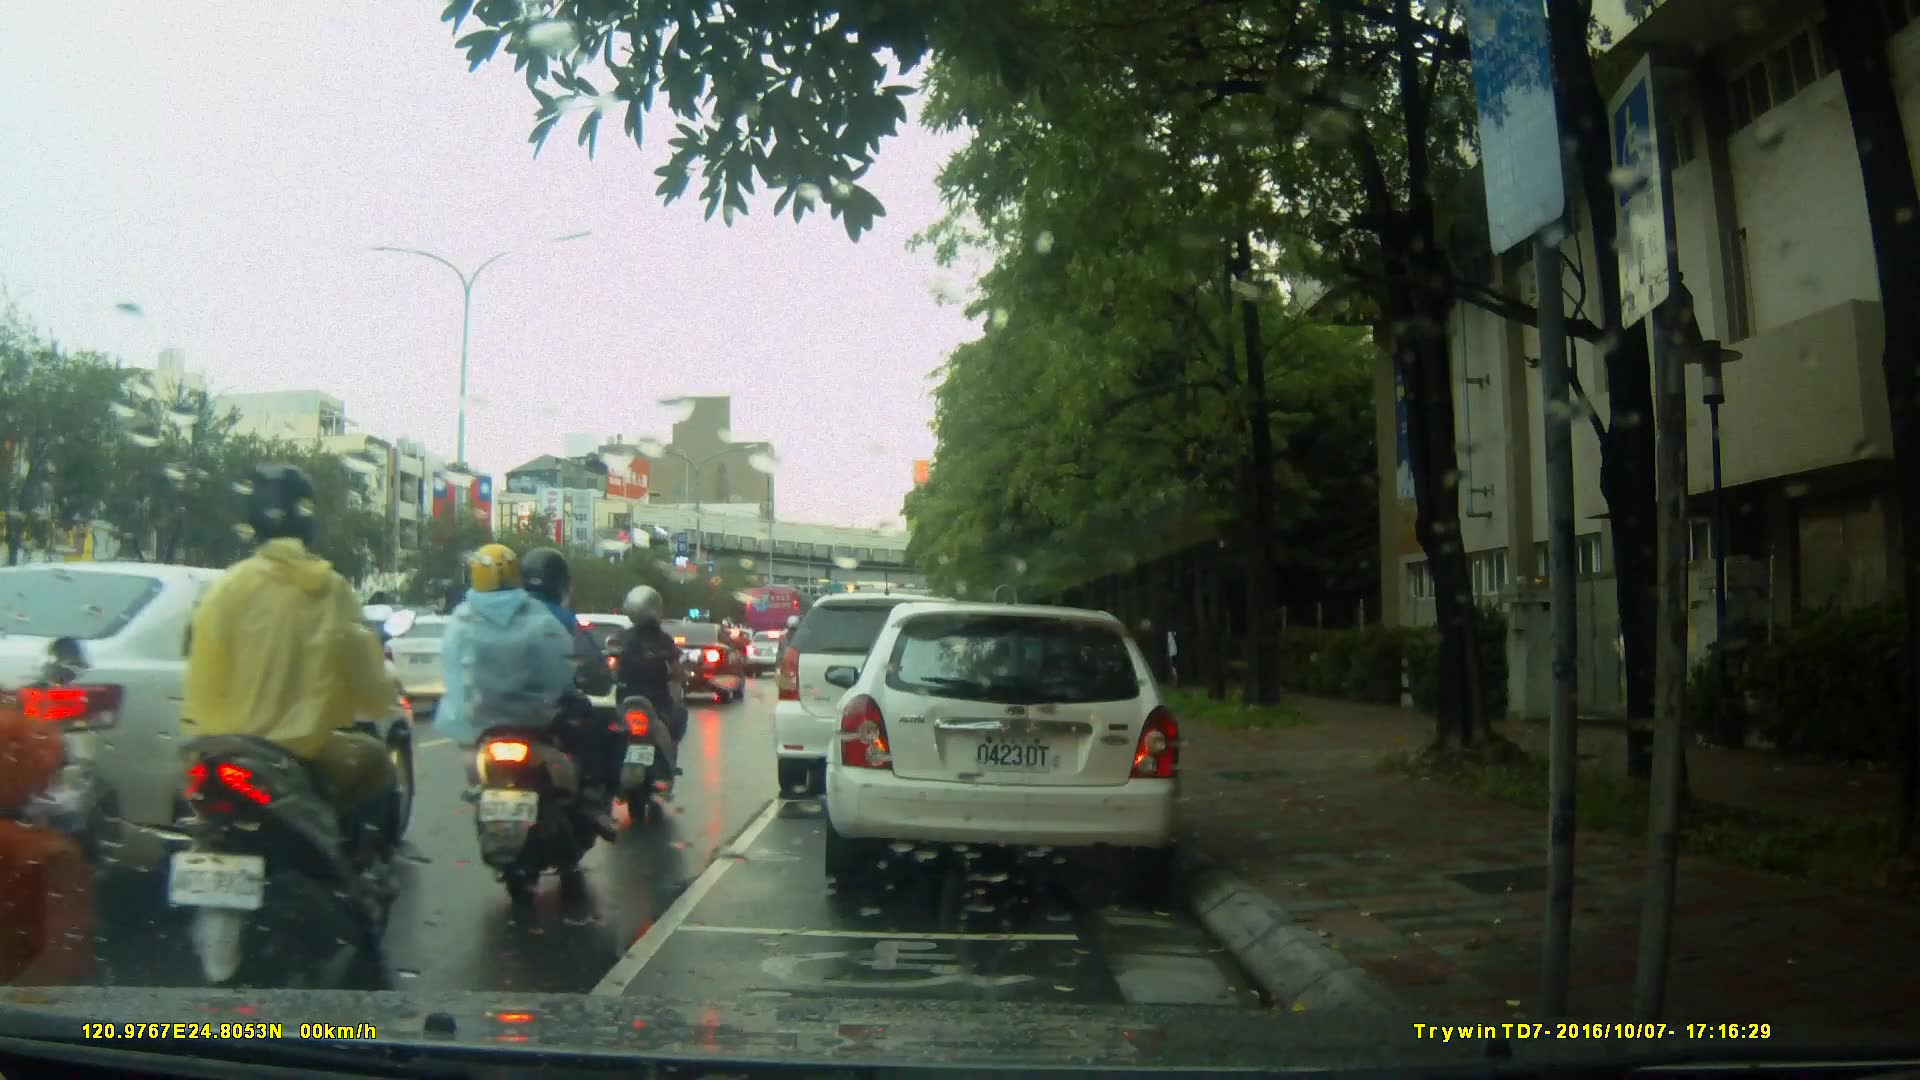rider: (159, 456, 415, 999), (437, 544, 616, 916), (1, 440, 111, 1039), (583, 582, 698, 836)
vehicle: (1, 560, 429, 868), (835, 594, 1194, 898), (776, 590, 1026, 784), (633, 624, 749, 705), (743, 579, 819, 655)
